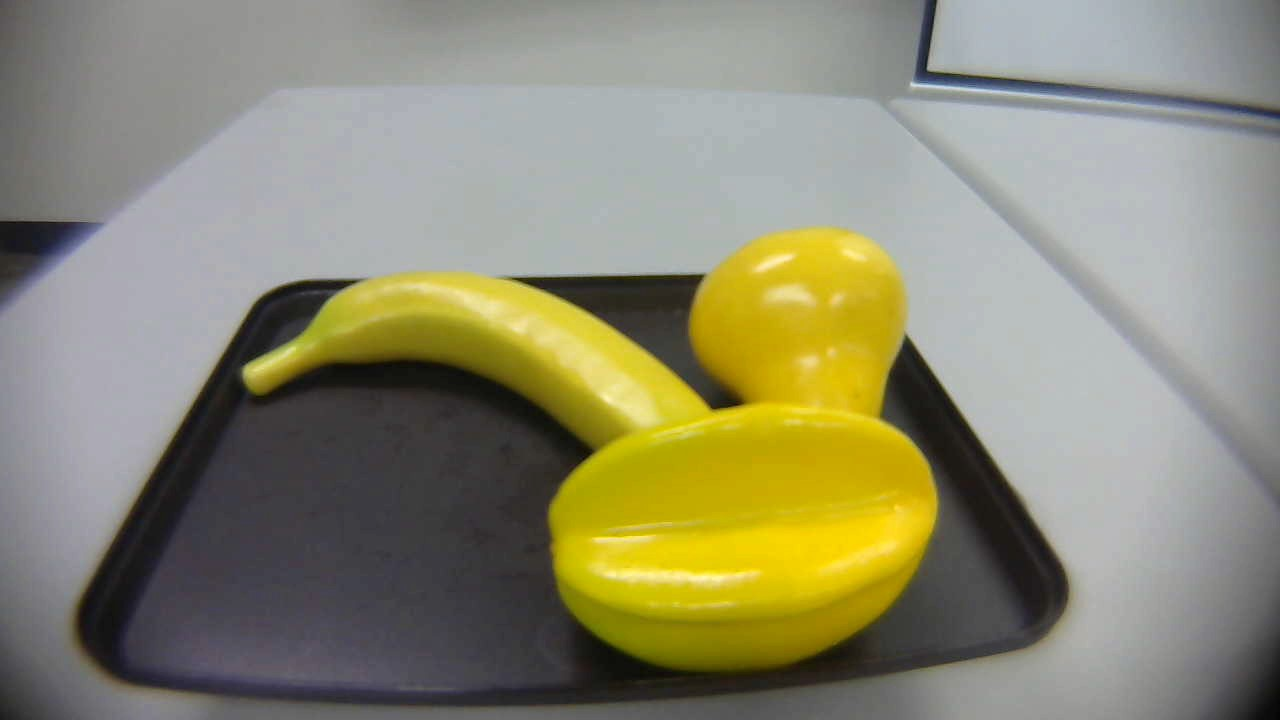banana: (224, 265, 717, 471)
star fruit: (533, 402, 951, 673)
yellow pear: (676, 225, 924, 443)
